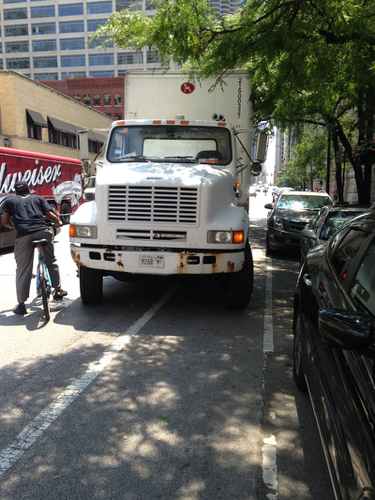bikerider: (1, 183, 83, 337)
